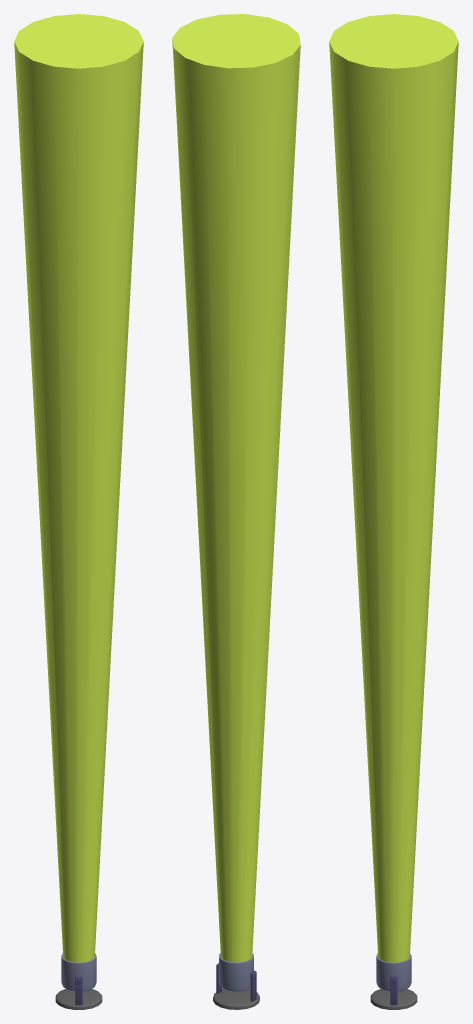
The model's file is Lantern_01.fbx.
The picture shows the model from 3 angles, left to right: view 1: azimuth 90°, elevation 25°; view 2: azimuth 150°, elevation 25°; view 3: azimuth 270°, elevation 25°; orthographic projection.
Parts seen in each view (by area): view 1: Light_02, Lantern_01, Lantern_01_Base, Light_01; view 2: Light_02, Lantern_01_Base, Lantern_01, Light_01; view 3: Light_02, Lantern_01, Lantern_01_Base, Light_01.
Part boxes in pixels (x1,y1,x2,y2): Light_02: (14, 14, 143, 962); Lantern_01: (61, 953, 96, 991); Lantern_01_Base: (55, 976, 102, 1009); Light_01: (63, 34, 94, 47); Light_02: (172, 14, 300, 962); Lantern_01_Base: (213, 963, 259, 1009); Lantern_01: (219, 953, 253, 991); Light_01: (221, 34, 251, 47); Light_02: (329, 14, 458, 962); Lantern_01: (376, 953, 411, 991); Lantern_01_Base: (370, 976, 417, 1009); Light_01: (378, 34, 409, 47).
Bounding box in the file's own units: 732 × 5977 × 732.
